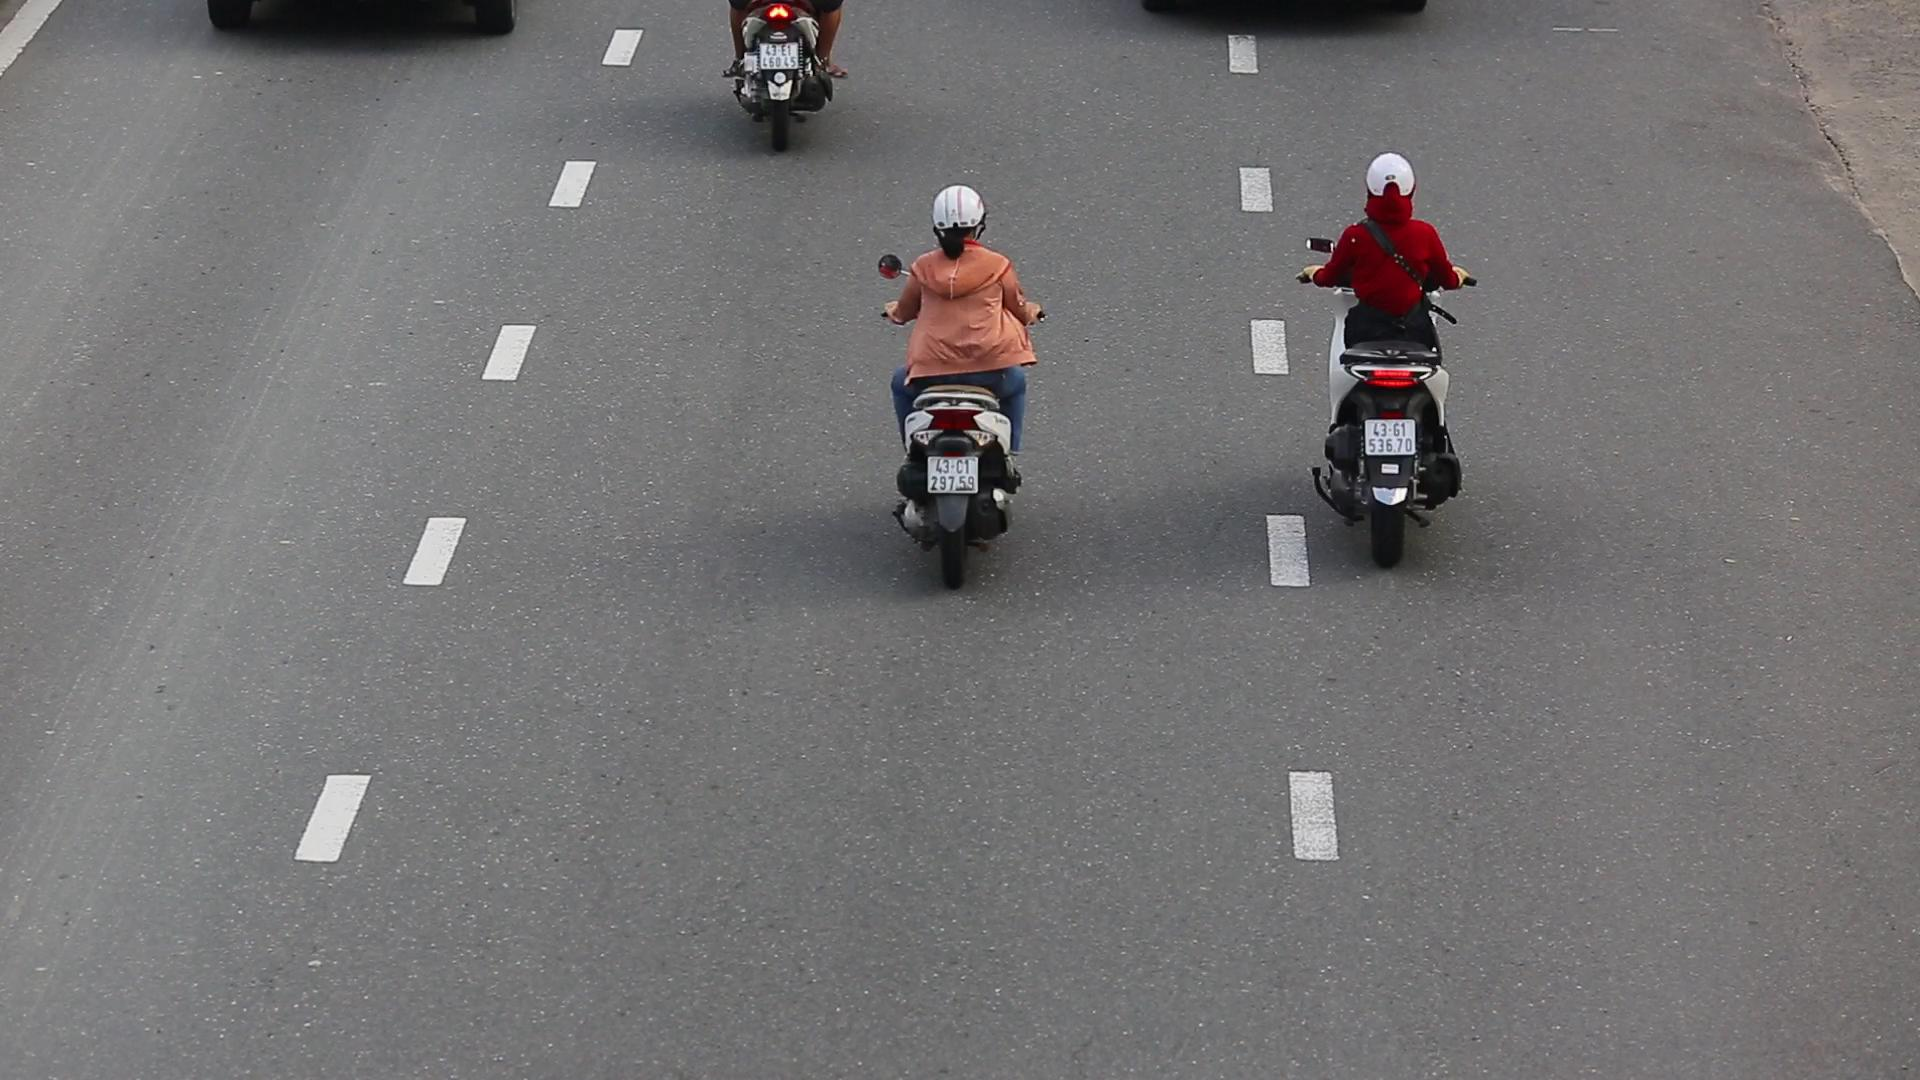motobike: (1280, 144, 1487, 576), (864, 166, 1060, 600)
